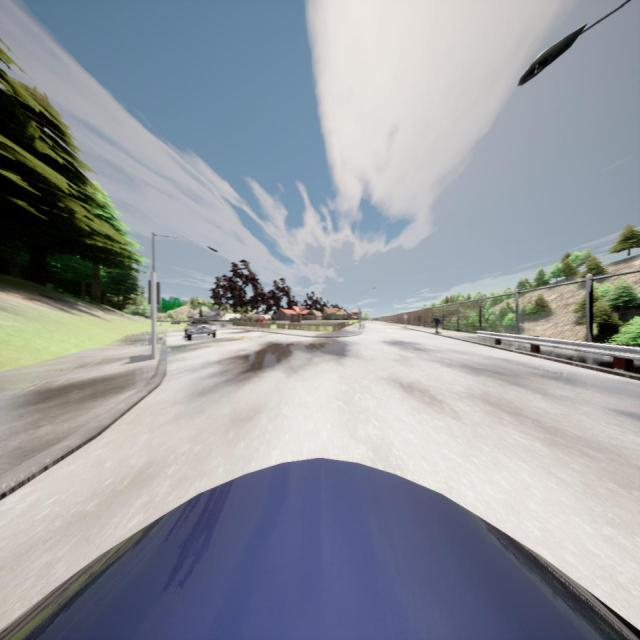Pedestrian: (430, 314, 443, 332)
Traffic_Signs: (402, 313, 408, 320)
Vehicle: (0, 457, 640, 640), (184, 317, 216, 342)
traffic_light: (148, 280, 160, 305)
